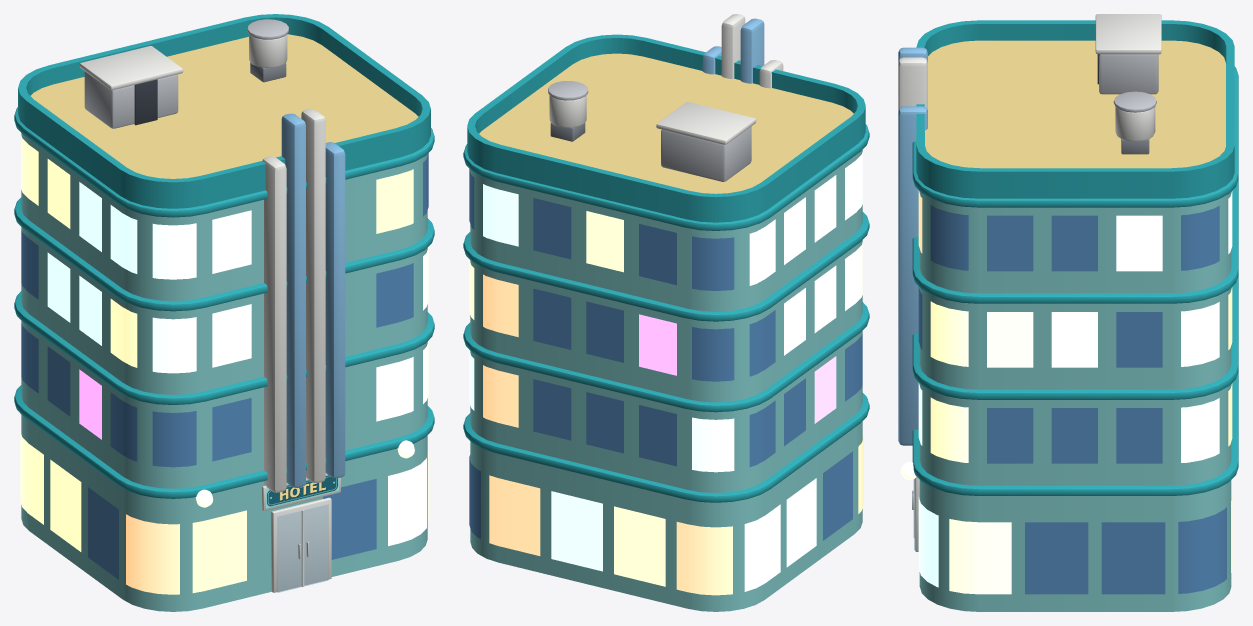
The model's file is deco_frisos_turquesa.glb.
3 views of the same model, side by side, from view 1: azimuth 30°, elevation 25°; view 2: azimuth 150°, elevation 25°; view 3: azimuth 270°, elevation 25° (orthographic). The views are drawn at different scales.
Parts seen in each view (by area): view 1: deco_frisos_turquesa; view 2: deco_frisos_turquesa; view 3: deco_frisos_turquesa.
Boxes of the visible parts, <box> form: deco_frisos_turquesa: <box>14,14,434,611</box>; deco_frisos_turquesa: <box>463,14,869,611</box>; deco_frisos_turquesa: <box>898,14,1238,611</box>.
Size of the model in its own units: 11.04 by 16.1 by 10.27.
Materials: 9 (2 with a texture image).
